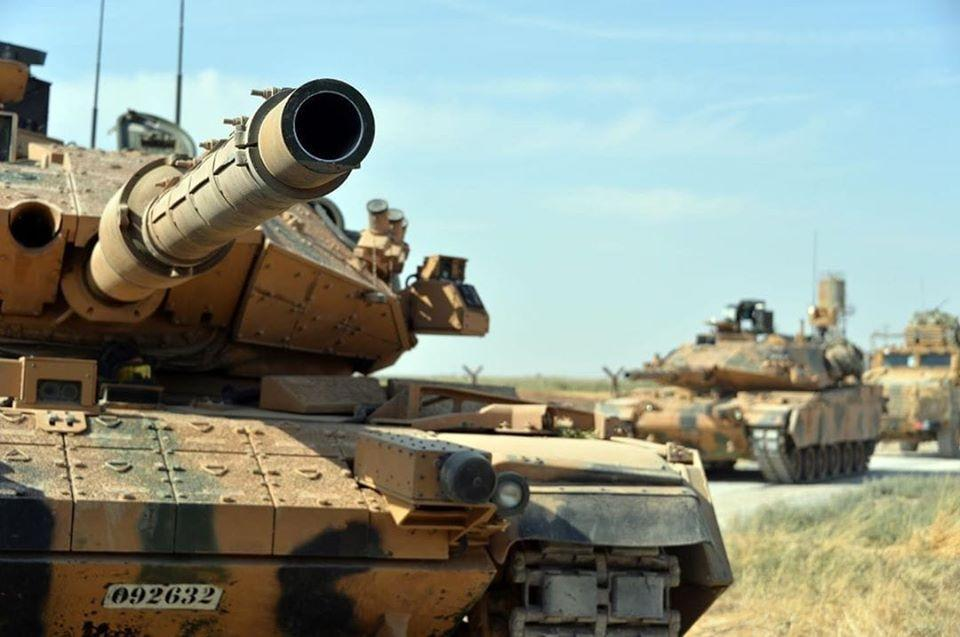tank: (0, 36, 733, 637), (594, 287, 883, 484)
truck: (865, 308, 960, 459)
